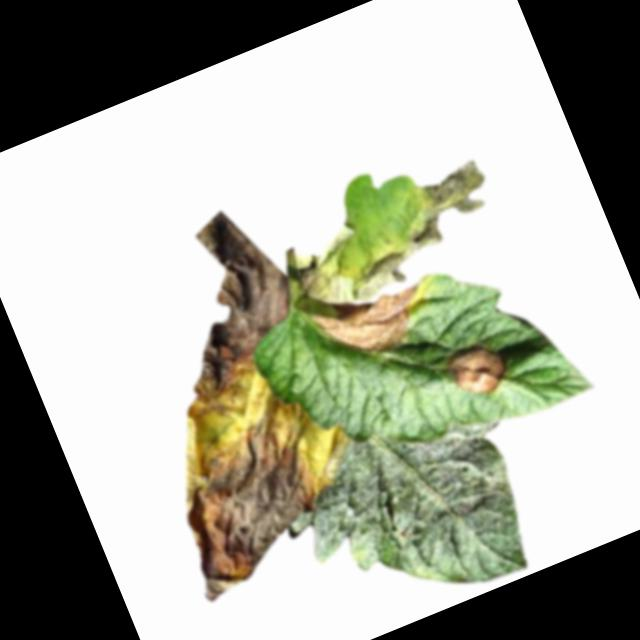Late_blight: (141, 400, 356, 608), (126, 196, 321, 408), (278, 155, 512, 322), (302, 273, 437, 378), (437, 334, 513, 406)
healthy: (270, 387, 555, 640)
